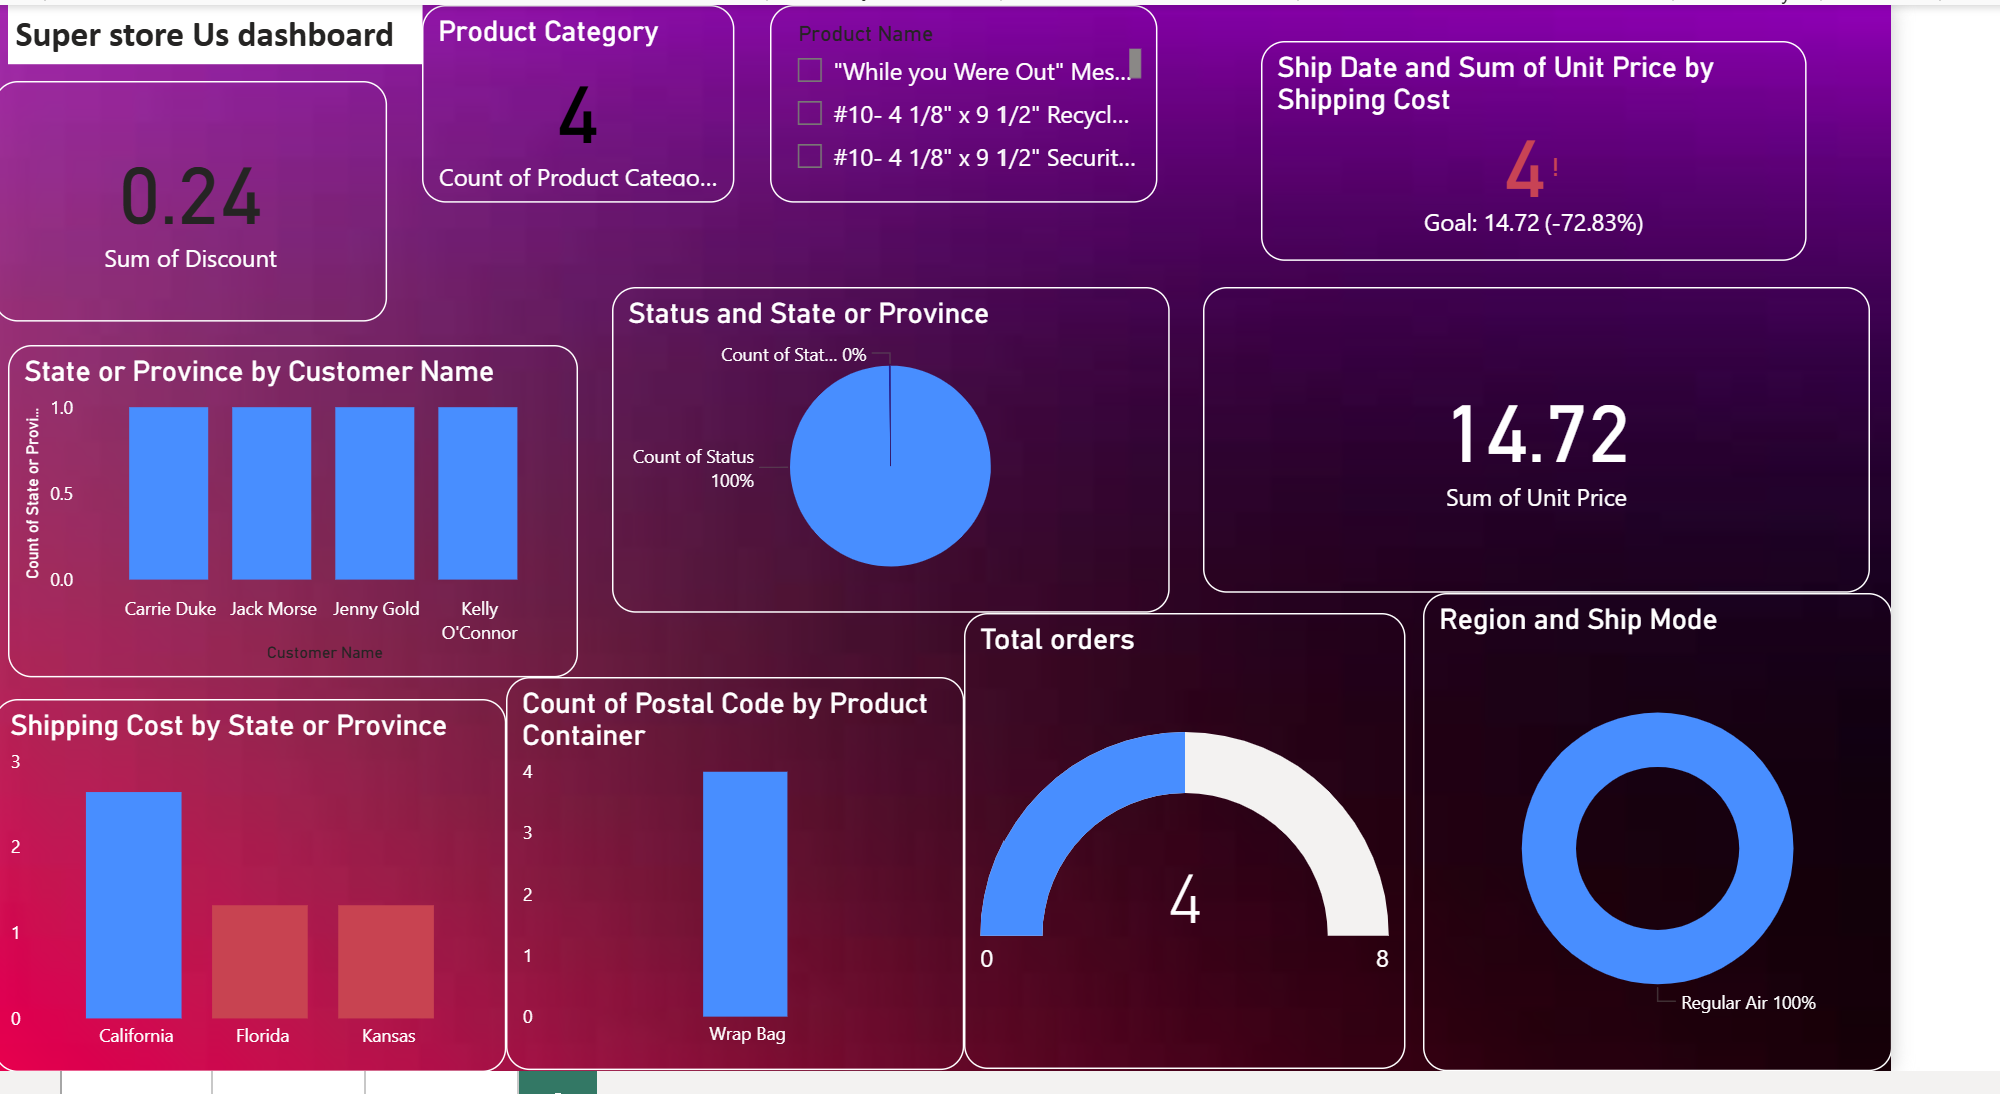

Layout of this report page (visuals, bound fields, positions):
{"tool":"powerbi","page":{"name":"Page 1","canvas":[1280,720],"ordinal":0},"visuals":[{"type":"textbox","box":[9.5,0,280.2,39.8],"z":0},{"type":"donutChart","title":"Region and Ship Mode","fields":{"Y":["Orders.Region"],"Series":["Orders.Ship Mode"]},"box":[964.5,397.3,317,323],"z":1000},{"type":"pieChart","title":" Status and State or Province","fields":{"Y":["Returns.Status","Orders.State or Province"]},"box":[417.1,191.1,376.1,219.9],"z":2000},{"type":"lineStackedColumnComboChart","fields":{"Y":["Orders.Postal Code"],"Category":["Orders.Product Container"]},"box":[345.8,453.5,309.4,265.4],"z":3000},{"type":"lineClusteredColumnComboChart","title":"Shipping Cost by State or Province","fields":{"Y":["Orders.Shipping Cost"],"Category":["Orders.State or Province"]},"box":[0,468.6,345.8,251.8],"z":4000},{"type":"clusteredColumnChart","title":"State or Province by Customer Name","fields":{"Category":["Orders.Customer Name"],"Y":["Orders.State or Province"]},"box":[9.1,229,385.2,224.5],"z":5000},{"type":"card","fields":{"Values":["Orders.Discount"]},"box":[0,51.6,265.4,162.3],"z":6000},{"type":"card","fields":{"Values":["Orders.Unit Price"]},"box":[815.9,191.1,450.4,206.3],"z":7000},{"type":"kpi","title":"Ship Date and Sum of Unit Price by Shipping Cost","fields":{"Indicator":["Orders.Ship Date"],"TrendLine":["Orders.Shipping Cost"],"Goal":["Orders.Unit Price"]},"box":[855.4,24.3,368.5,148.6],"z":8000},{"type":"gauge","fields":{"Y":["Orders.Total orders"]},"box":[655.2,411,297.3,307.9],"z":9000},{"type":"card","title":"Product Category ","fields":{"Values":["Orders.Product Category"]},"box":[289.7,0,210.8,133.5],"z":10000},{"type":"slicer","fields":{"Values":["Orders.Product Name"]},"box":[524.7,0,260.9,133.5],"z":11000}]}

Visuals, with their boxes in screenshot pixels (x1, y1, x2, y2), scaled from the page's 1280x720 canvas onto the 2000x1094 screenshot:
textbox: x1=15 y1=0 x2=453 y2=60
"Region and Ship Mode" donutChart: x1=1507 y1=604 x2=1999 y2=1093
" Status and State or Province" pieChart: x1=652 y1=290 x2=1239 y2=624
lineStackedColumnComboChart - Orders.Postal Code x Orders.Product Container: x1=540 y1=689 x2=1024 y2=1092
"Shipping Cost by State or Province" lineClusteredColumnComboChart: x1=0 y1=712 x2=540 y2=1093
"State or Province by Customer Name" clusteredColumnChart: x1=14 y1=348 x2=616 y2=689
card - Orders.Discount: x1=0 y1=78 x2=415 y2=325
card - Orders.Unit Price: x1=1275 y1=290 x2=1979 y2=604
"Ship Date and Sum of Unit Price by Shipping Cost" kpi: x1=1337 y1=37 x2=1912 y2=263
gauge - Orders.Total orders: x1=1024 y1=624 x2=1488 y2=1092
"Product Category " card: x1=453 y1=0 x2=782 y2=203
slicer - Orders.Product Name: x1=820 y1=0 x2=1228 y2=203
